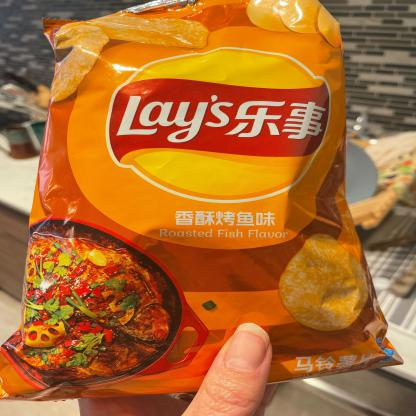potatochip: (0, 0, 412, 407)
